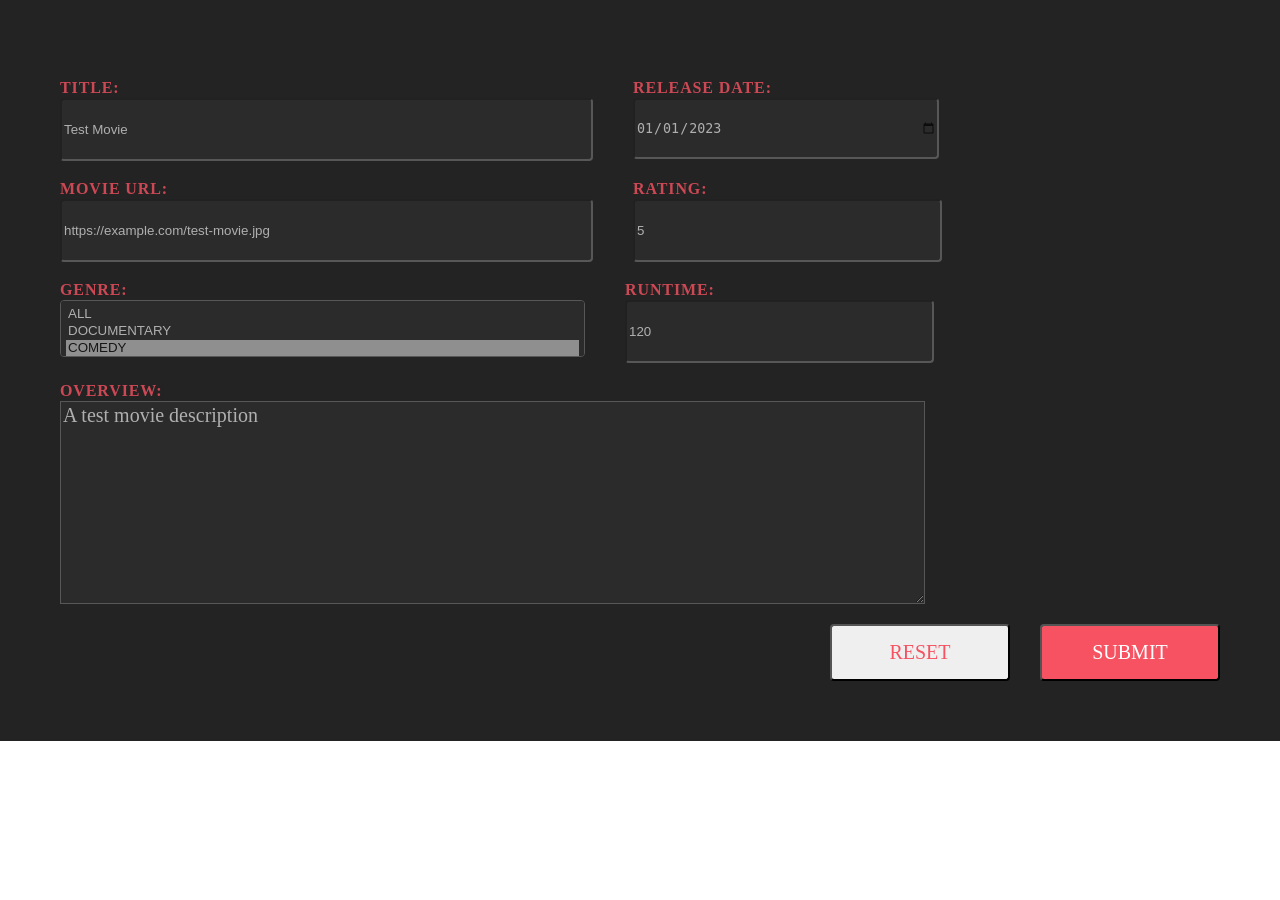
MovieForm component › resets the form to initial data on reset button click
This screenshot has width=1280, height=900.
Step 1. Replace the text in the field labelled "TITLE:" with "Updated Movie" → coordinates (326, 130), box [60, 98, 593, 161]
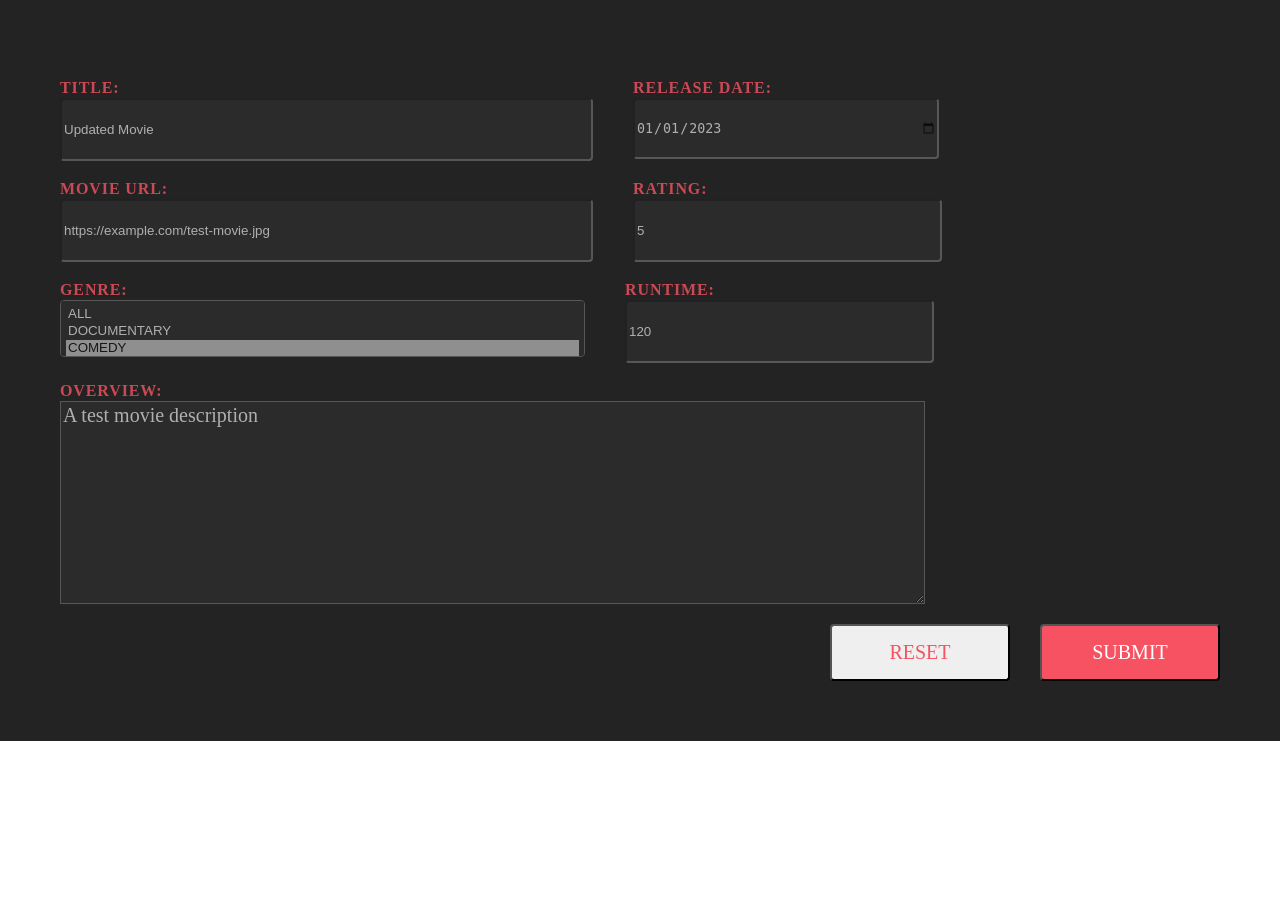
Step 2. Type "2023-02-01" into the date field labelled "RELEASE DATE:" → coordinates (786, 128), box [633, 98, 939, 159]
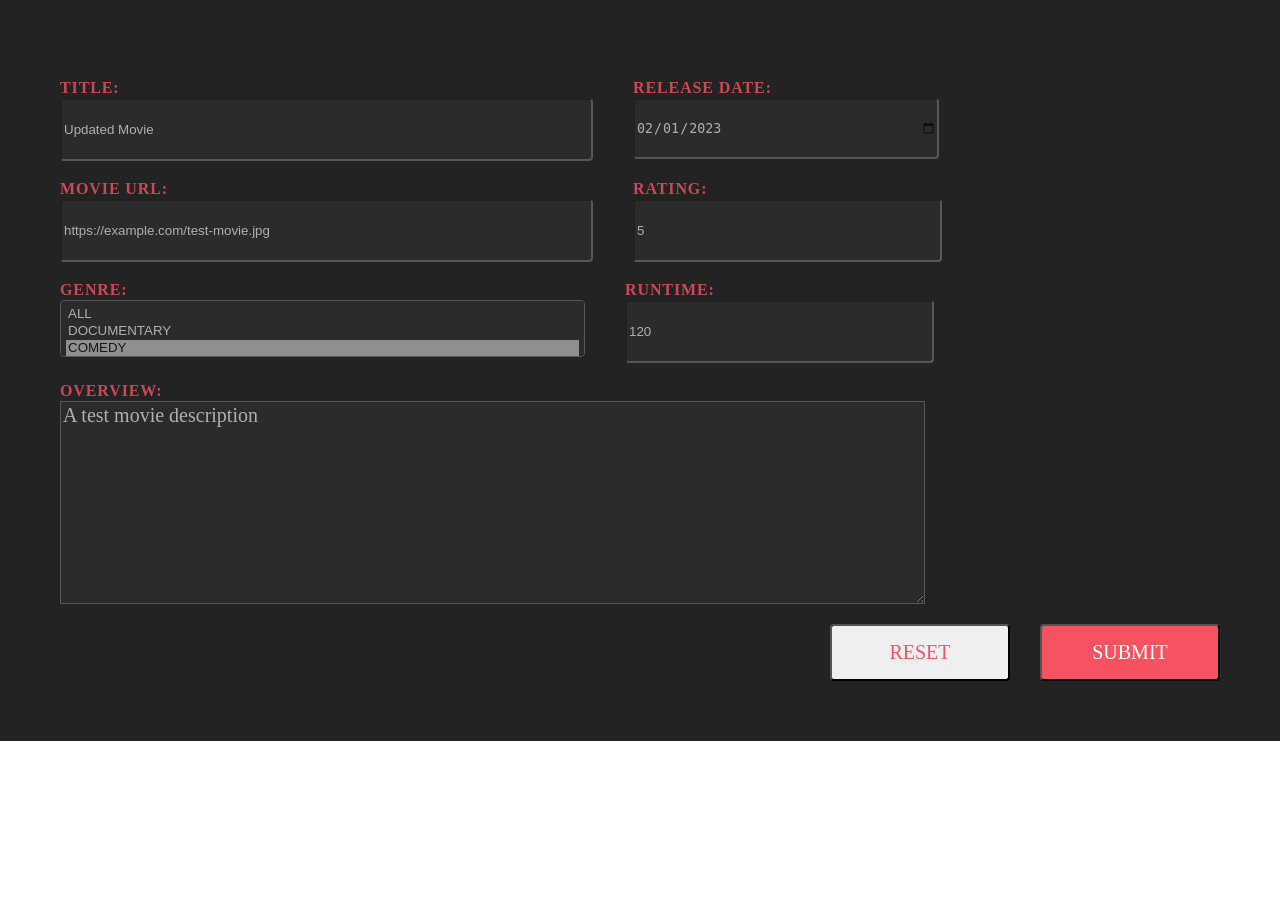
Step 3. Replace the text in the field labelled "MOVIE URL:" with "https://example.com/updated-movie.jpg" → coordinates (326, 230), box [60, 199, 593, 262]
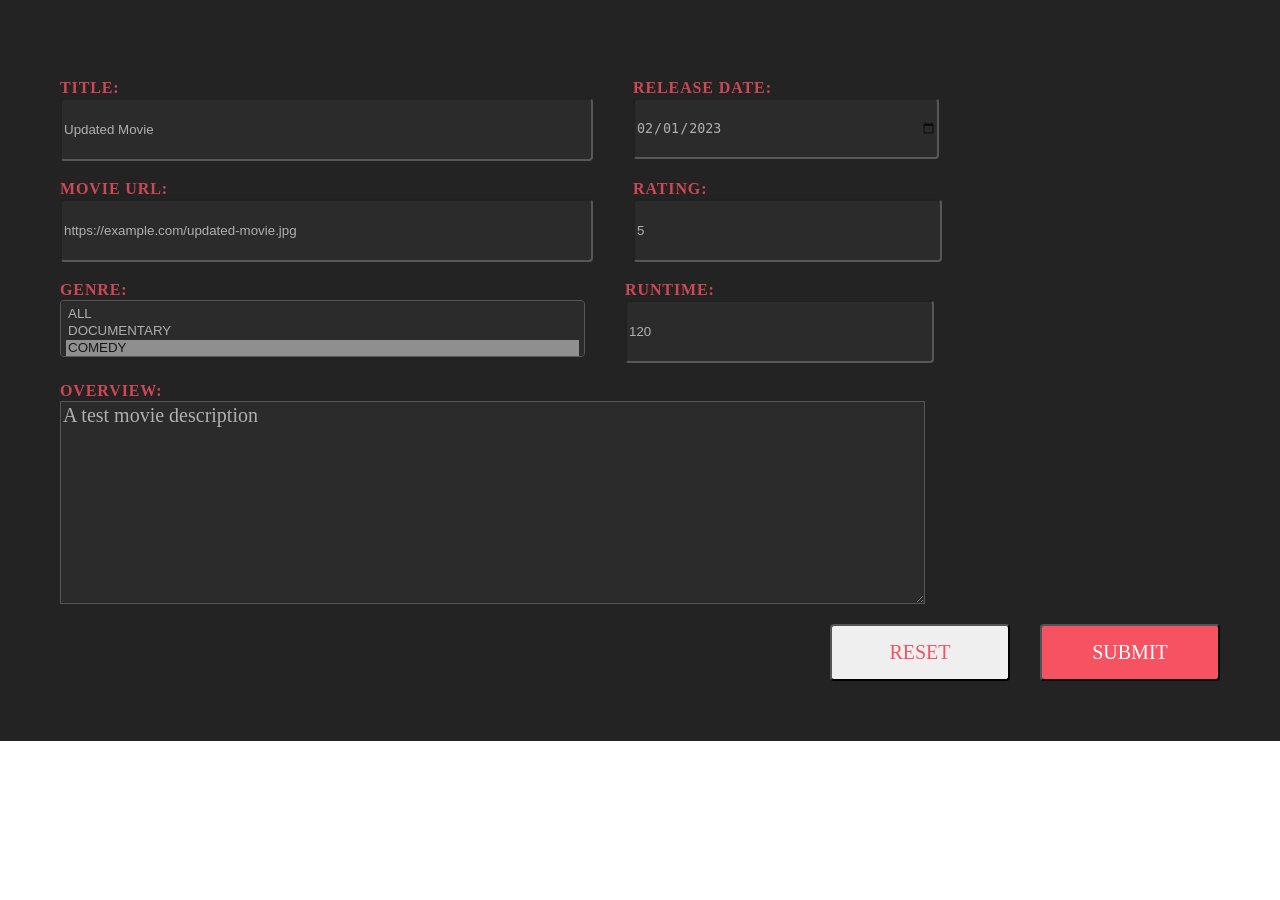
Step 4. Click the button "Reset" → coordinates (920, 652), box [830, 624, 1010, 681]
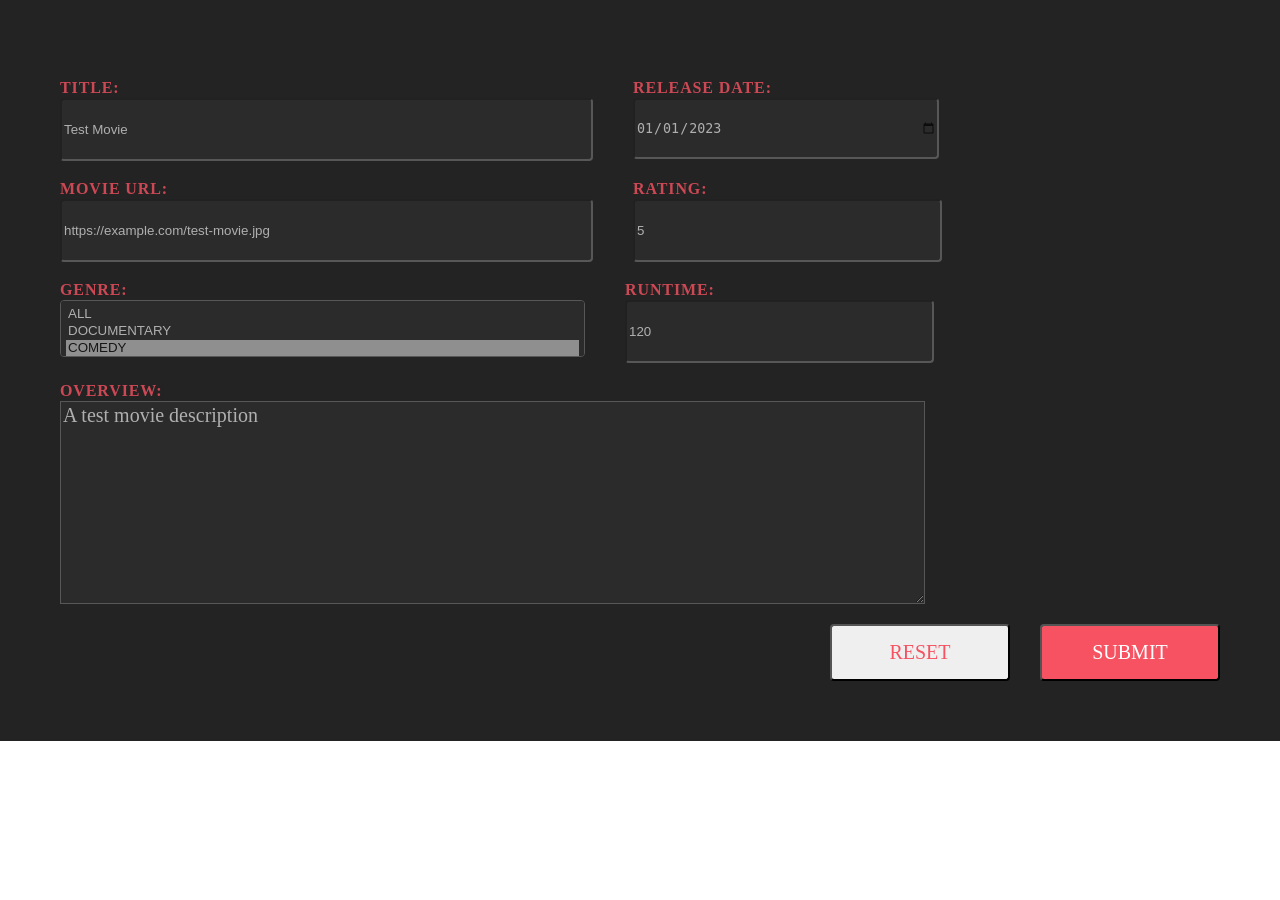
Expected: the date field labelled "RELEASE DATE:" holds "2023-01-01", [633, 98, 939, 159]
Now the field labelled "TITLE:" holds "Test Movie", box [60, 98, 593, 161]
Now the field labelled "MOVIE URL:" holds "https://example.com/test-movie.jpg", box [60, 199, 593, 262]
